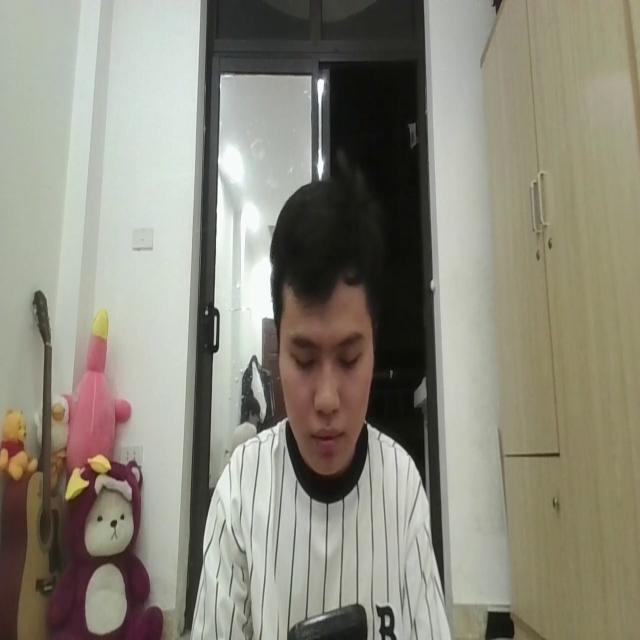phone: (285, 593, 369, 640)
student: (197, 157, 456, 640)
